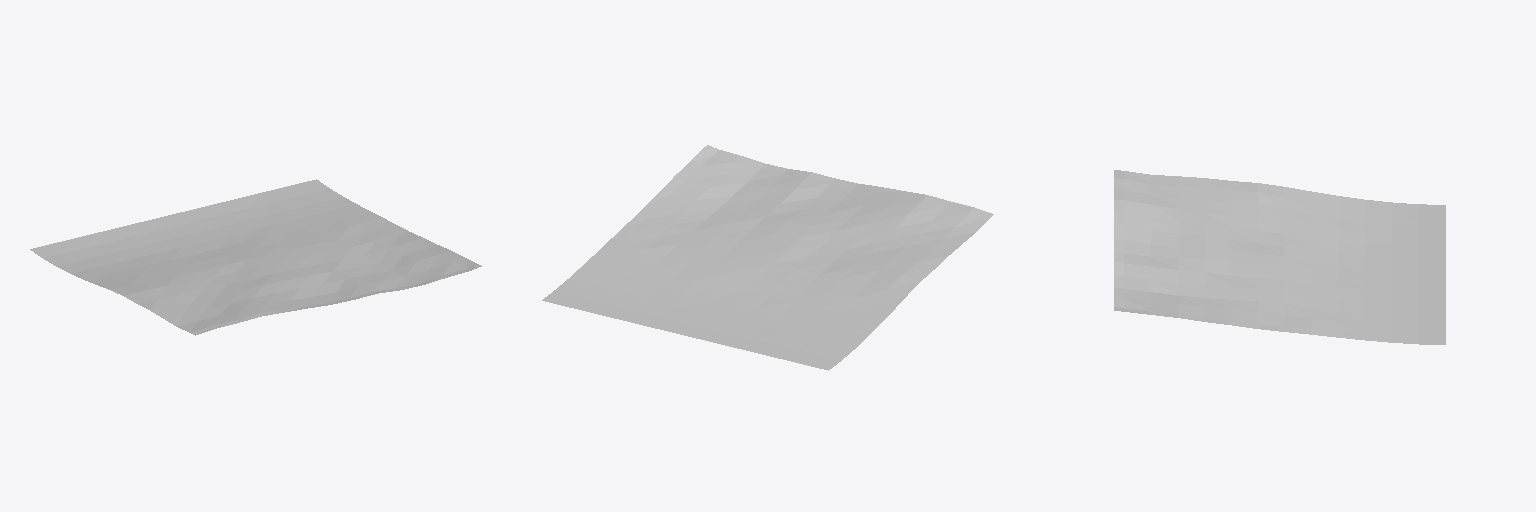
Rendered from Landscape.036.obj.
The picture shows the model from 3 angles: view 1: azimuth 30°, elevation 25°; view 2: azimuth 150°, elevation 25°; view 3: azimuth 270°, elevation 25°; orthographic projection.
Parts seen in each view (by area): view 1: Landscape.036; view 2: Landscape.036; view 3: Landscape.036.
Part boxes in pixels (bbox=[...]): Landscape.036: bbox=[30, 179, 481, 335]; Landscape.036: bbox=[542, 145, 993, 370]; Landscape.036: bbox=[1114, 170, 1445, 344].
Size of the model in its own units: 32 by 4.05 by 32.